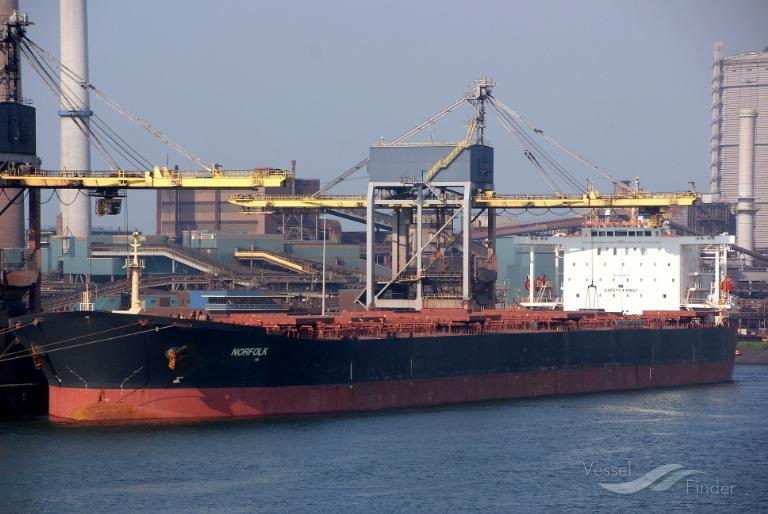OCR: (225, 344, 272, 360)
